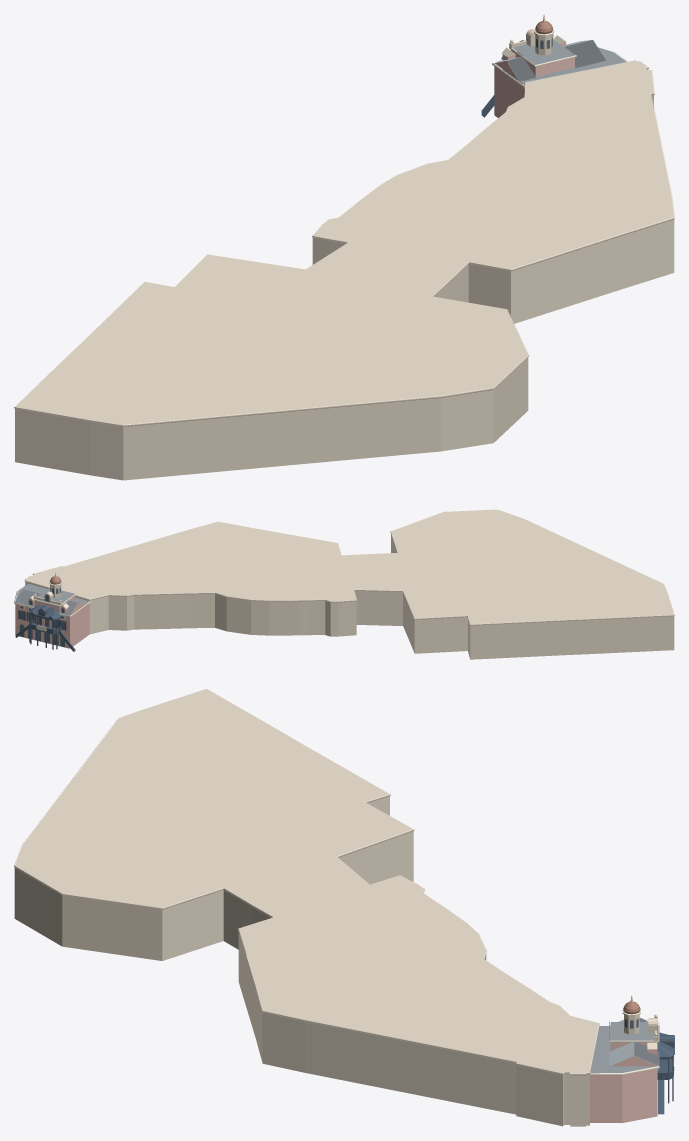
Rendered from detail.glb.
The picture shows the model from 3 angles, top to bottom: view 1: azimuth 30°, elevation 25°; view 2: azimuth 150°, elevation 25°; view 3: azimuth 270°, elevation 25°; orthographic projection. The views are drawn at different scales.
Visible parts, largest first — view 1: pirates-of-the-caribbean-and-blue-bayou-disneyland; view 2: pirates-of-the-caribbean-and-blue-bayou-disneyland; view 3: pirates-of-the-caribbean-and-blue-bayou-disneyland.
Part boxes in pixels (<box>): pirates-of-the-caribbean-and-blue-bayou-disneyland: <box>14,14,674,480</box>; pirates-of-the-caribbean-and-blue-bayou-disneyland: <box>14,509,674,659</box>; pirates-of-the-caribbean-and-blue-bayou-disneyland: <box>14,689,674,1126</box>.
Bounding box in the file's own units: 155 × 18.3 × 112.
